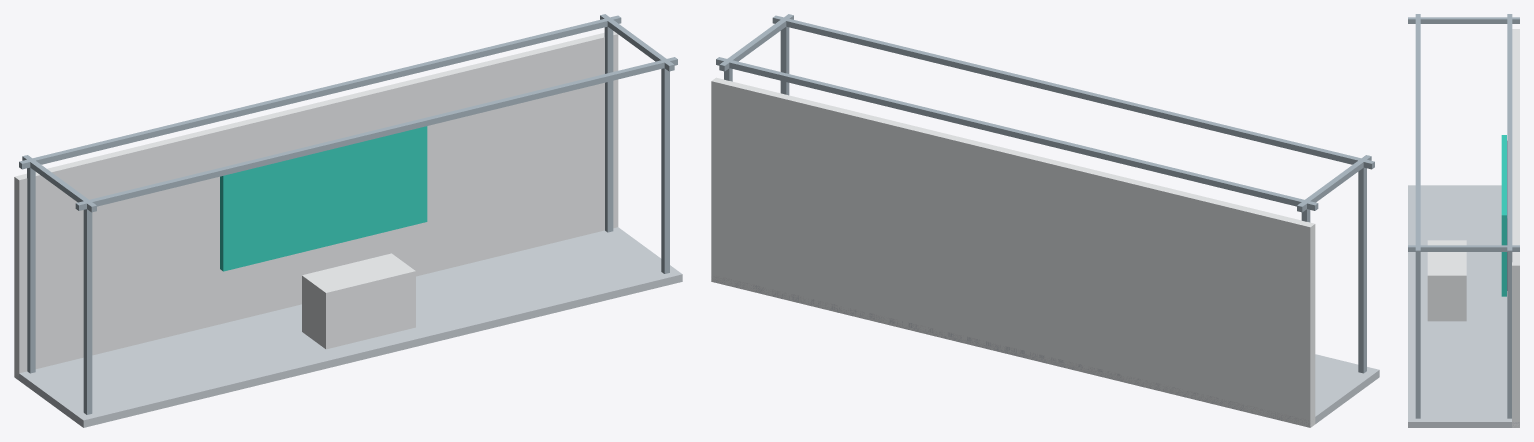
The picture shows the model from 3 angles, left to right: view 1: azimuth 30°, elevation 25°; view 2: azimuth 150°, elevation 25°; view 3: azimuth 270°, elevation 25°; orthographic projection. The views are drawn at different scales.
Parts seen in each view (by area): view 1: Exhibition Booth Concept; view 2: Exhibition Booth Concept; view 3: Exhibition Booth Concept.
Boxes of the visible parts, x1,y1,x2,y2 form: Exhibition Booth Concept: [14, 14, 682, 427]; Exhibition Booth Concept: [711, 14, 1379, 427]; Exhibition Booth Concept: [1408, 14, 1519, 427].
Bounding box in the file's own units: 10 × 3.49 × 2.
